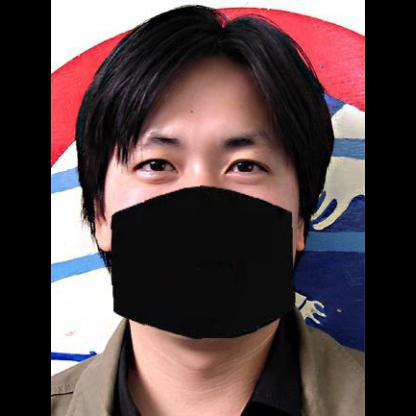Fabric/Cloth Mask: (107, 104, 299, 320)
